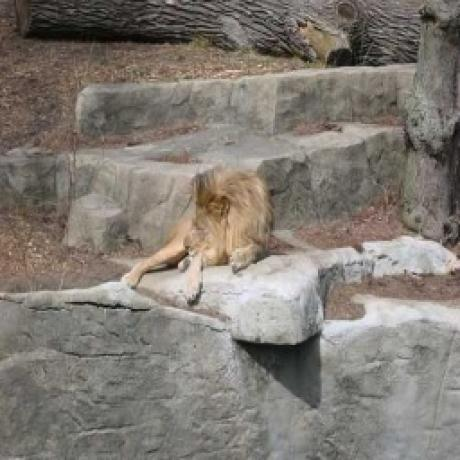Lion: (122, 164, 274, 306)
